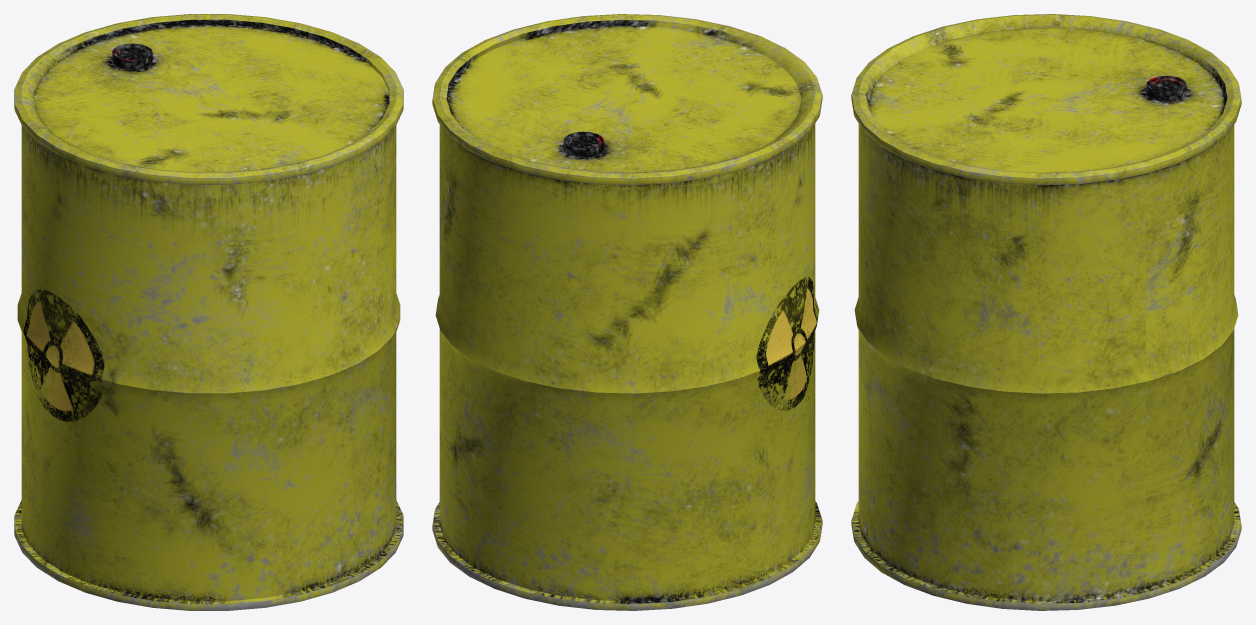
The model's file is Nuclear_barrel.fbx.
The picture shows the model from 3 angles, left to right: view 1: azimuth 30°, elevation 25°; view 2: azimuth 150°, elevation 25°; view 3: azimuth 270°, elevation 25°; orthographic projection.
Parts seen in each view (by area): view 1: Cylinder.001; view 2: Cylinder.001; view 3: Cylinder.001.
Part boxes in pixels (<box>): Cylinder.001: <box>14,14,403,610</box>; Cylinder.001: <box>432,14,822,610</box>; Cylinder.001: <box>851,14,1241,610</box>.
Bounding box in the file's own units: 81.96 × 101 × 81.96.
